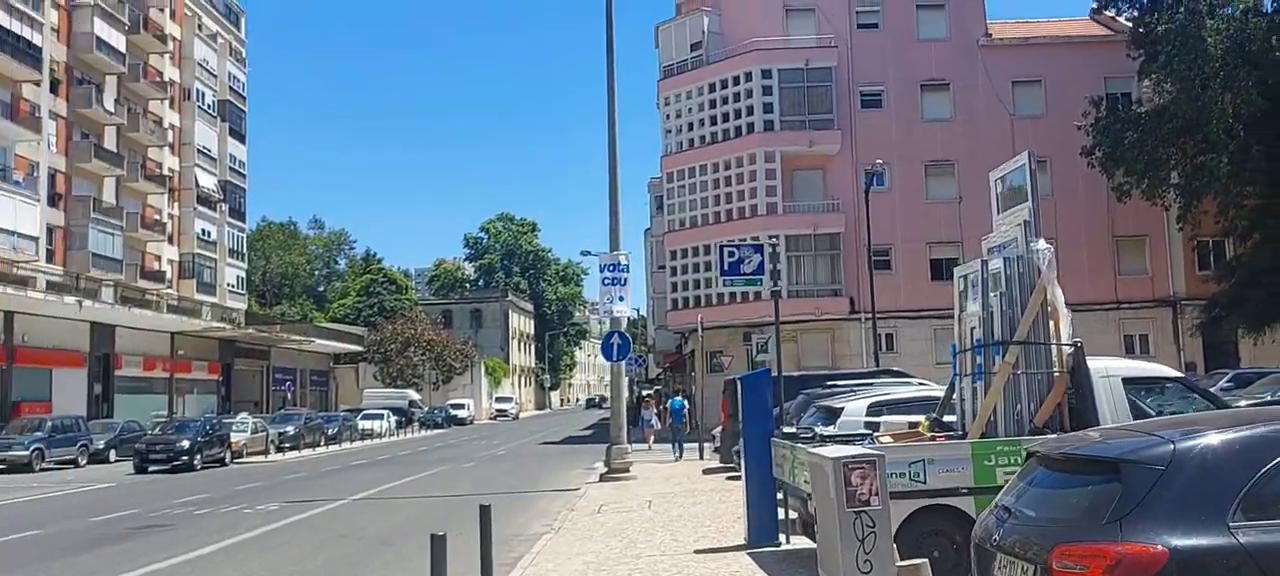Sentido obrigatorio: (597, 328, 634, 365)
